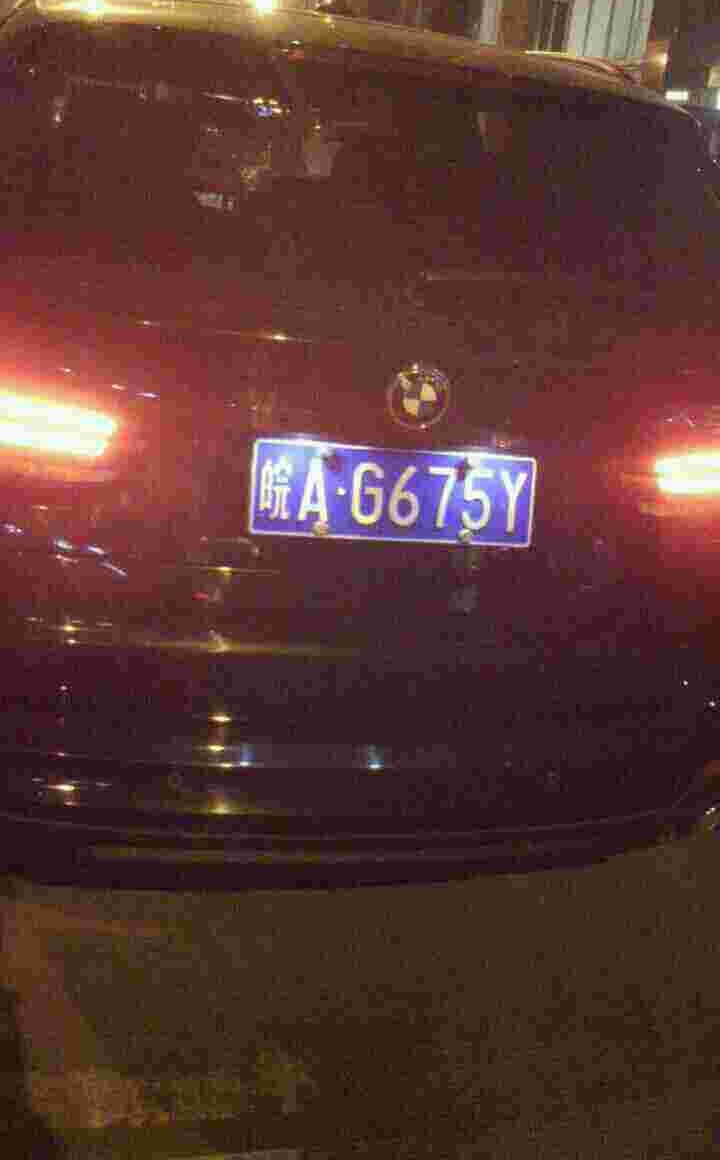plate: (253, 437, 551, 554)
